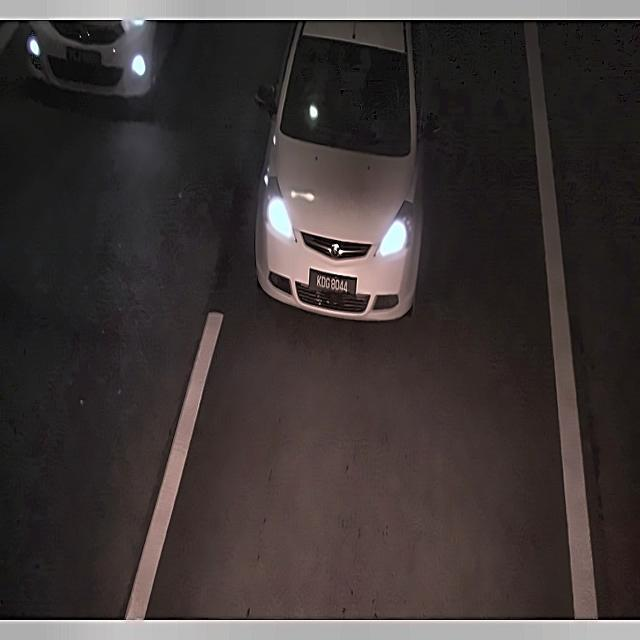car: (303, 262, 363, 301), (60, 38, 110, 72)
